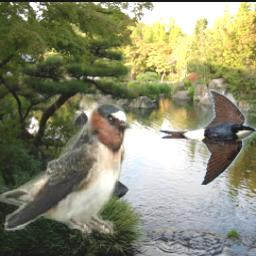Swallow: (1, 96, 134, 237), (159, 90, 256, 186)
